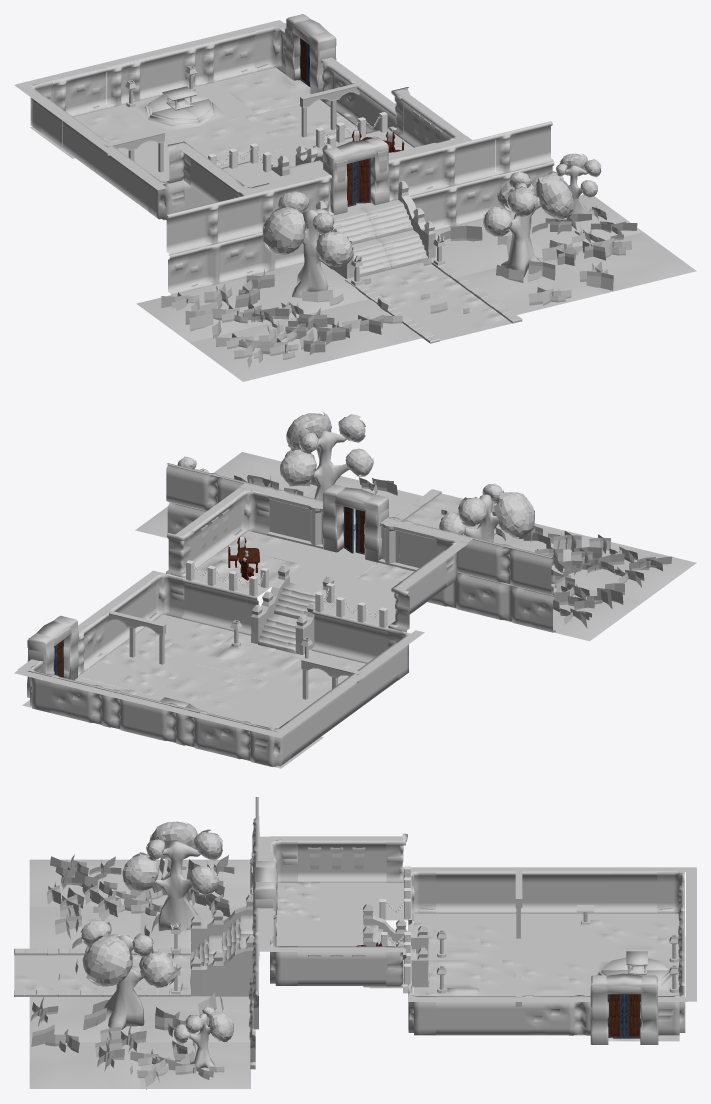
The model's file is Dungeon test scene.fbx.
3 renders of one model, top to bottom at view 1: azimuth 30°, elevation 25°; view 2: azimuth 150°, elevation 25°; view 3: azimuth 270°, elevation 25°, orthographic. The views are drawn at different scales.
Visible parts, largest first — view 1: Ground.006, Ground.003, Ground.008, Ground.004, Floor 8x8 Type B.003, Gate Type A.001, Ground.000, Floor 8x8 Type C.004, Ground.007, Gate Type A.002, Ground.001, Ground.005 (+67 smaller); view 2: Gate Type A.001, Floor 8x8 Type B.003, Ground.008, Floor 8x8 Type C.003, Floor 8x8 Type A.005, Gate Type A.002, Ground.007, Floor 8x8 Type A.003, Floor 8x8 Type C.002, Floor 8x8 Type B.002, Wall Center Type A.003, Wall Center Type A2.010 (+70 smaller); view 3: Ground.006, Ground.005, Floor 8x8 Type A.005, Gate Type A.002, Floor 8x8 Type B.004, Floor 8x8 Type B.003, Ground.001, Floor 8x8 Type A.003, Floor 8x8 Type B.002, Ground.004, Floor 8x8 Type C.003, Stair Rail type C.001 (+51 smaller).
Part boxes in pixels (x1,y1,x2,y2): Ground.006: (564,232,696,293); Ground.003: (463,256,603,314); Ground.008: (190,320,334,381); Ground.004: (282,299,422,359); Floor 8x8 Type B.003: (171,117,286,165); Gate Type A.001: (323,137,389,215); Ground.000: (229,262,368,319); Floor 8x8 Type C.004: (214,67,310,113); Ground.007: (136,281,281,342); Gate Type A.002: (285,14,336,93); Ground.001: (435,219,542,275); Ground.005: (509,194,642,248); Gate Type A.001: (322,484,388,562); Floor 8x8 Type B.003: (152,664,267,713); Ground.008: (559,542,696,601); Floor 8x8 Type C.003: (195,632,311,681); Floor 8x8 Type A.005: (226,682,322,726); Gate Type A.002: (27,616,78,697); Ground.007: (503,583,642,641); Floor 8x8 Type A.003: (314,578,395,627); Floor 8x8 Type C.002: (185,547,301,596); Floor 8x8 Type B.002: (269,650,365,695); Wall Center Type A.003: (267,495,306,544); Wall Center Type A2.010: (311,610,351,659); Ground.006: (29,1042,140,1088); Ground.005: (140,1042,250,1088); Floor 8x8 Type A.005: (502,923,590,960); Gate Type A.002: (590,973,658,1044); Floor 8x8 Type B.004: (591,920,679,957); Floor 8x8 Type B.003: (502,960,591,995); Ground.001: (140,996,250,1042); Floor 8x8 Type A.003: (320,882,408,920); Floor 8x8 Type B.002: (414,923,502,960); Ground.004: (29,906,140,948); Floor 8x8 Type C.003: (414,960,502,995); Stair Rail type C.001: (190,935,254,996).
Bounding box in the file's own units: 4900 × 1066 × 6171.
